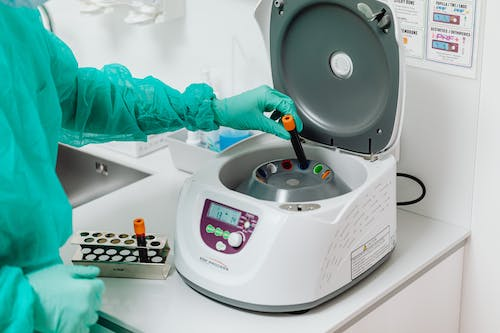blood: (288, 126, 308, 170), (135, 232, 149, 263)
